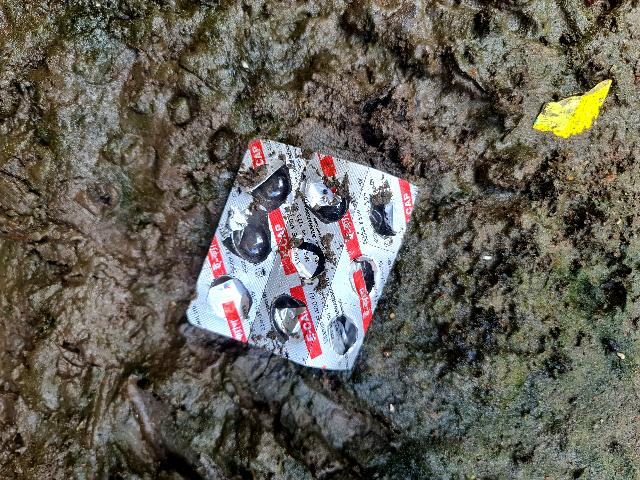medicine: (157, 91, 445, 411)
